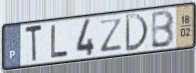4: (75, 17, 97, 59)
B: (150, 8, 176, 50)
D: (124, 12, 150, 53)
L: (49, 23, 69, 60)
T: (24, 23, 44, 65)
Z: (98, 16, 124, 54)
